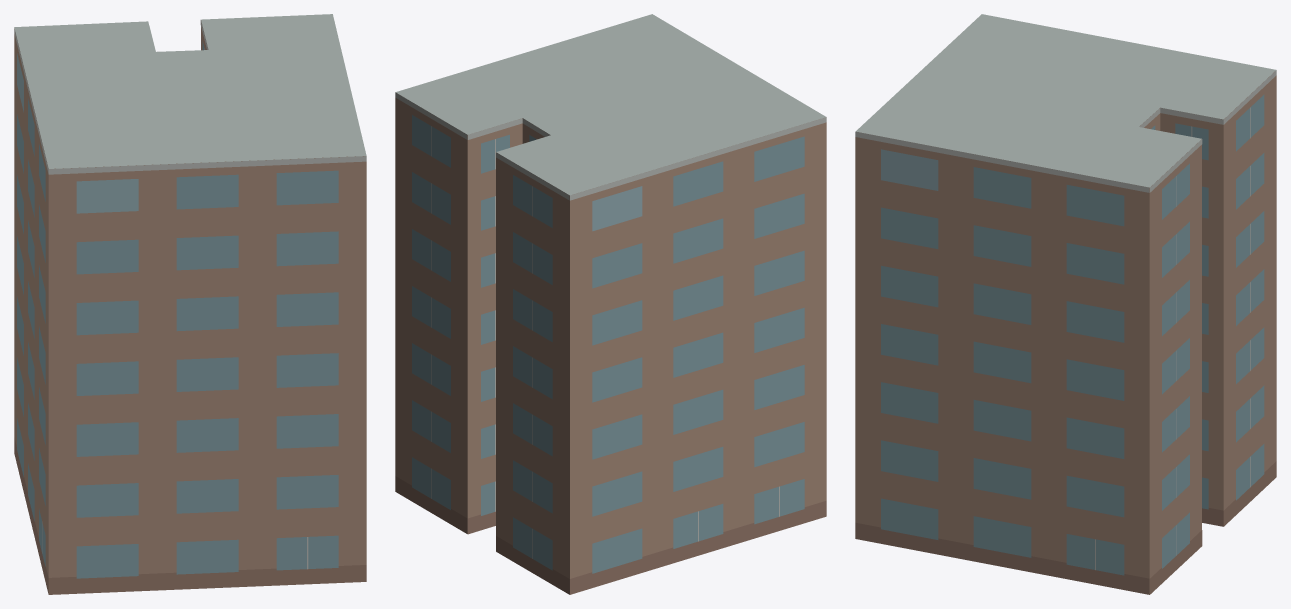
The model's file is survey-upis-33022880.glb.
3 views of the same model, side by side, from view 1: azimuth 30°, elevation 25°; view 2: azimuth 150°, elevation 25°; view 3: azimuth 270°, elevation 25° (orthographic). The views are drawn at different scales.
Parts seen in each view (by area): view 1: survey-upis-33022880.tmp; view 2: survey-upis-33022880.tmp; view 3: survey-upis-33022880.tmp.
Part boxes in pixels (x1=…): survey-upis-33022880.tmp: x1=14, y1=14, x2=366, y2=594; survey-upis-33022880.tmp: x1=395, y1=14, x2=826, y2=594; survey-upis-33022880.tmp: x1=855, y1=14, x2=1276, y2=594.
Bounding box in the file's own units: 16.78 × 18.35 × 17.2.
